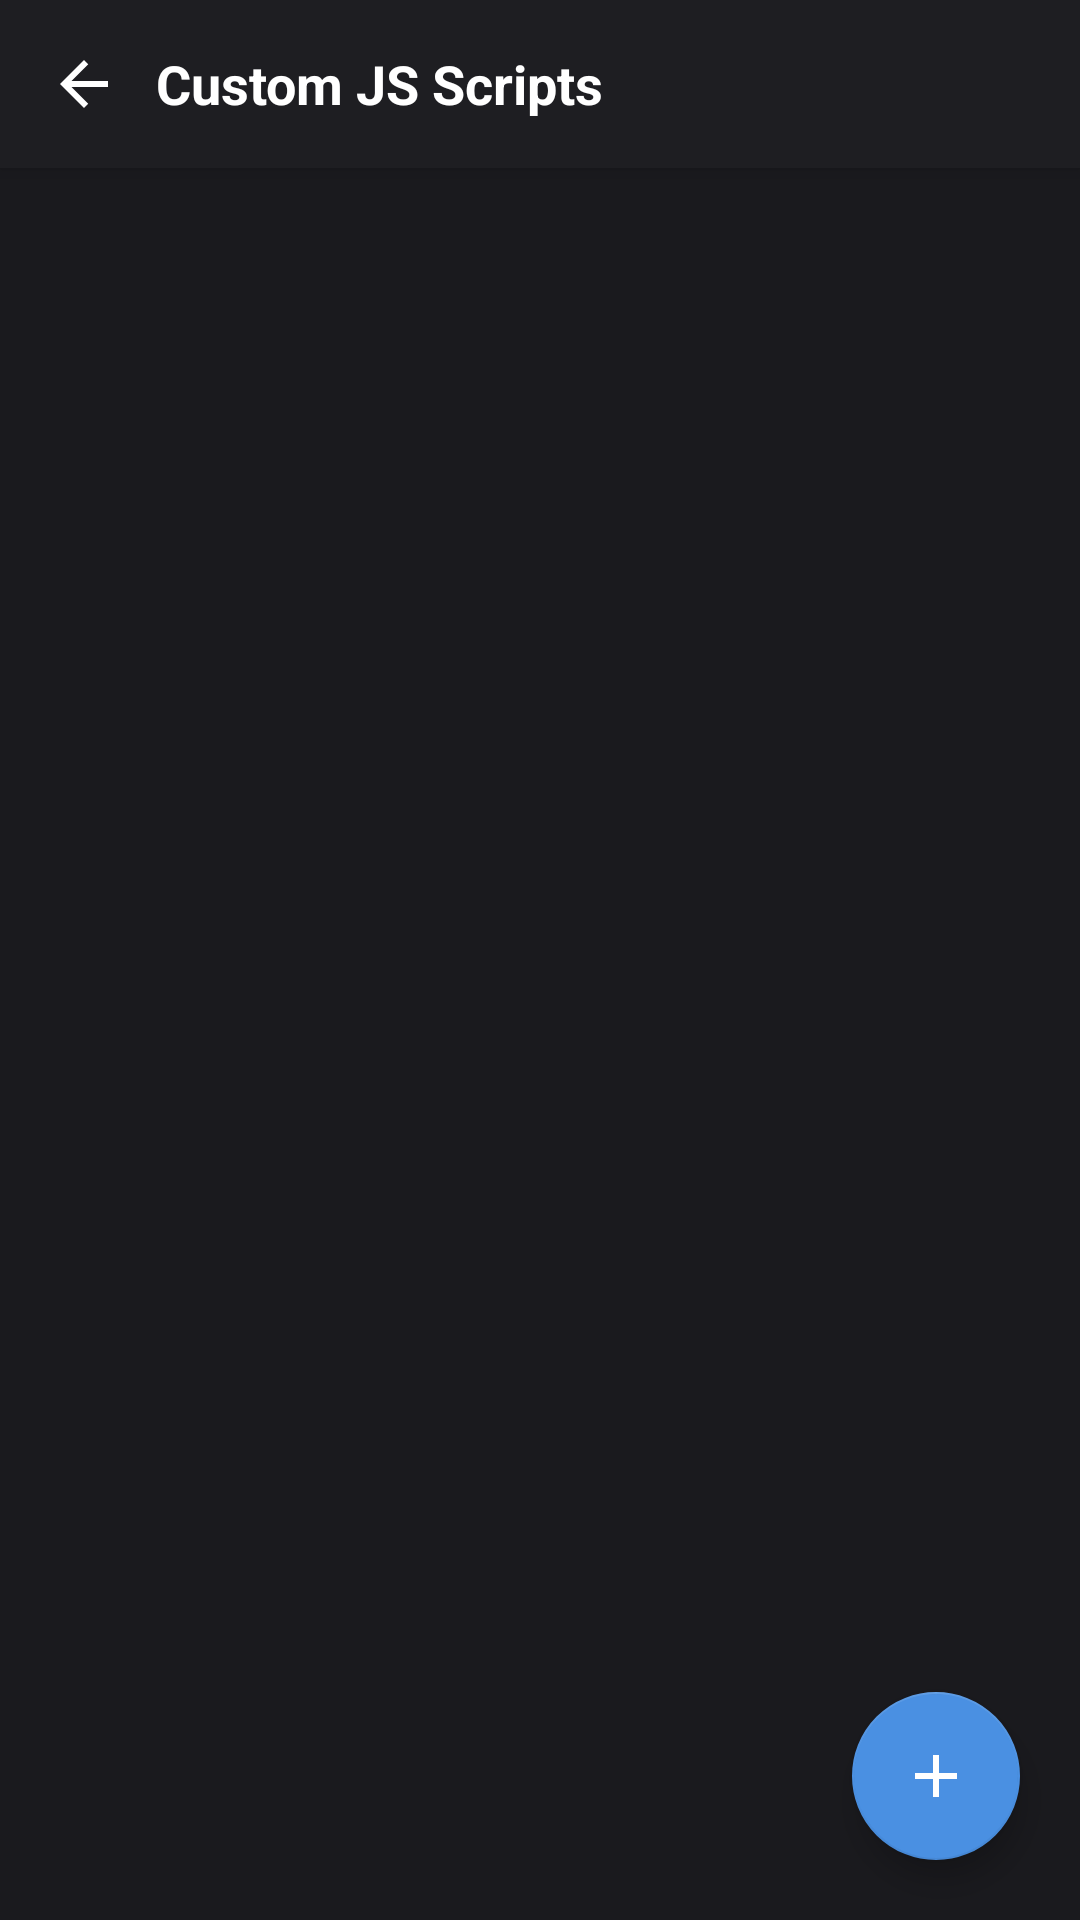

Screen size 1080w x 1920h. Icon name, then its center in pixels as [x,y]:
Add script: [936,1776]
Back: [84,84]
